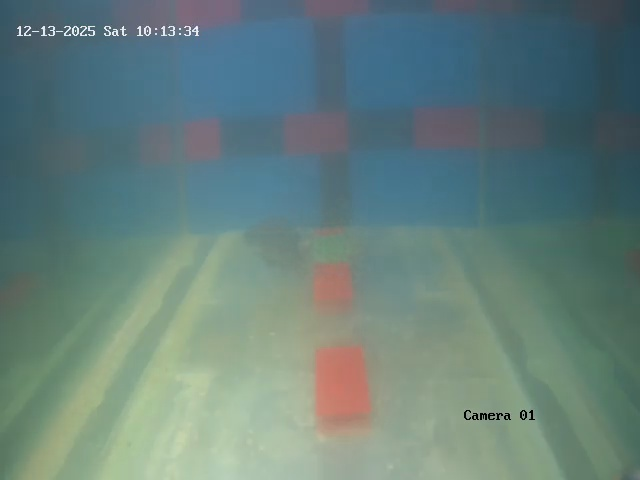fish: (244, 217, 302, 266)
